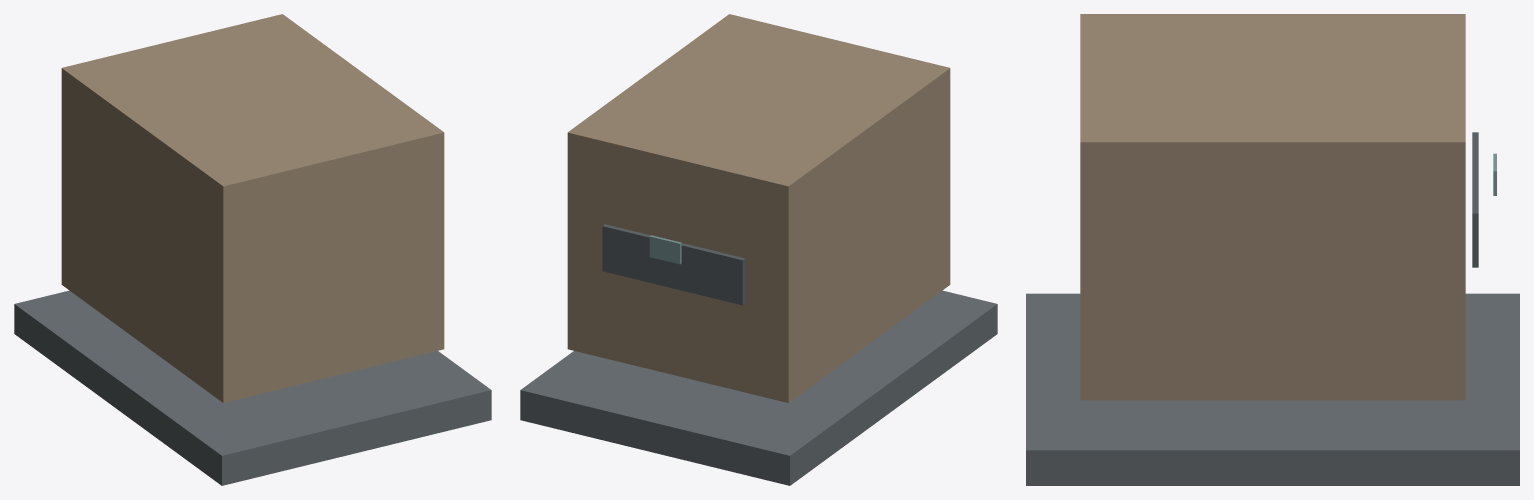
Rendered from iz3_prison_cell_02.glb.
3 views of the same model, side by side, from view 1: azimuth 30°, elevation 25°; view 2: azimuth 150°, elevation 25°; view 3: azimuth 270°, elevation 25° (orthographic). The views are drawn at different scales.
Visible parts, largest first — view 1: cabinet, base; view 2: cabinet, base, panel, display; view 3: cabinet, base, panel.
Part boxes in pixels (x1,y1,x2,y2): cabinet: (61,14,444,402); base: (14,290,491,485); cabinet: (567,14,950,402); base: (520,290,997,485); panel: (602,224,745,305); display: (649,235,681,264); cabinet: (1080,14,1465,400); base: (1026,293,1519,485); panel: (1472,132,1478,267).
Bounding box in the file's own units: 3 × 2.94 × 4.
